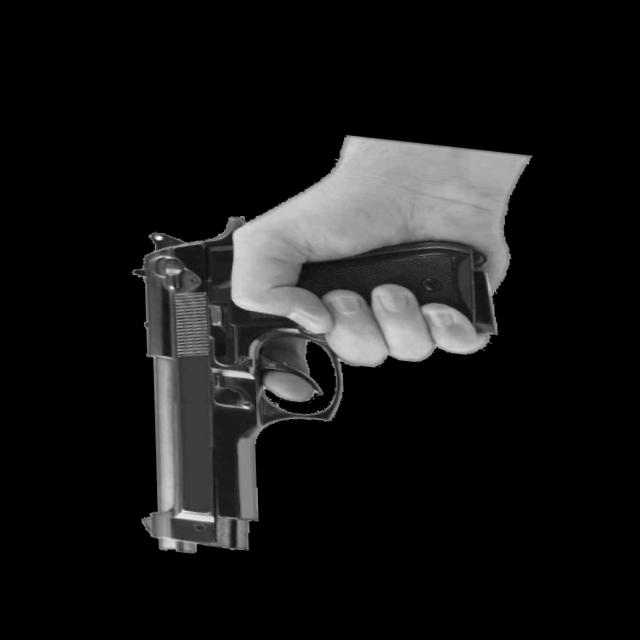handgun: (127, 206, 501, 576)
